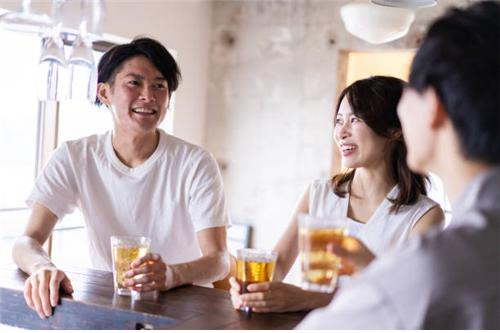alcohol: (298, 210, 345, 294), (235, 248, 281, 312), (111, 233, 148, 296)
